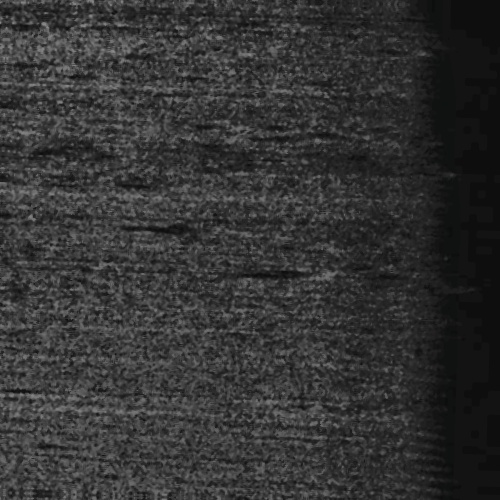object: (190, 225, 273, 234), (303, 266, 344, 275)
shadow: (223, 266, 323, 275), (146, 225, 231, 234)
